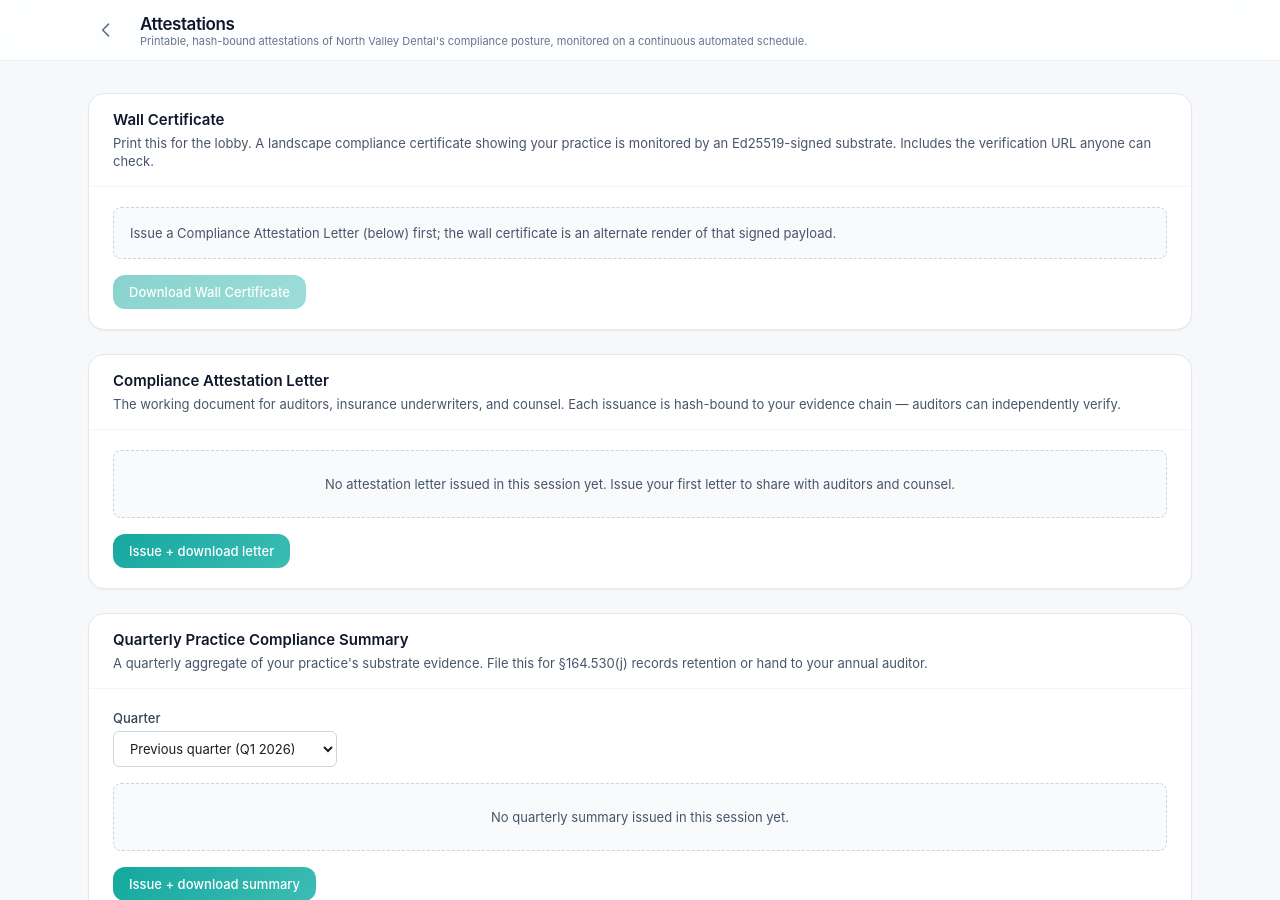
Test case: ClientAttestations › F1 403 shows permission toast (banned-words clean)
Click the button with aria-label "Issue and download Compliance Attestation Letter": (202, 551) [113,534,290,568]
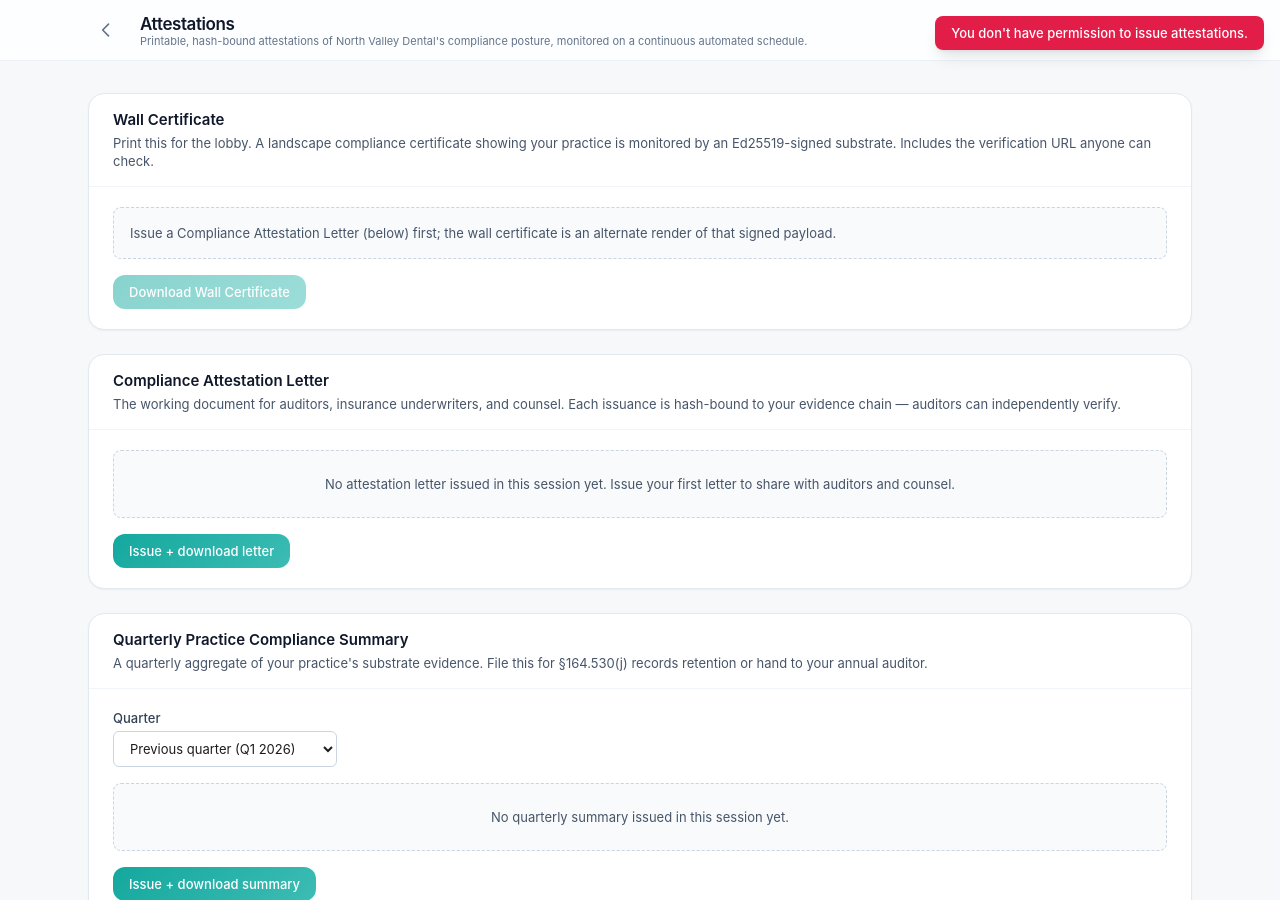
Expected: the text "You don't have permission to issue attestations." is shown, [935,16,1264,50]
